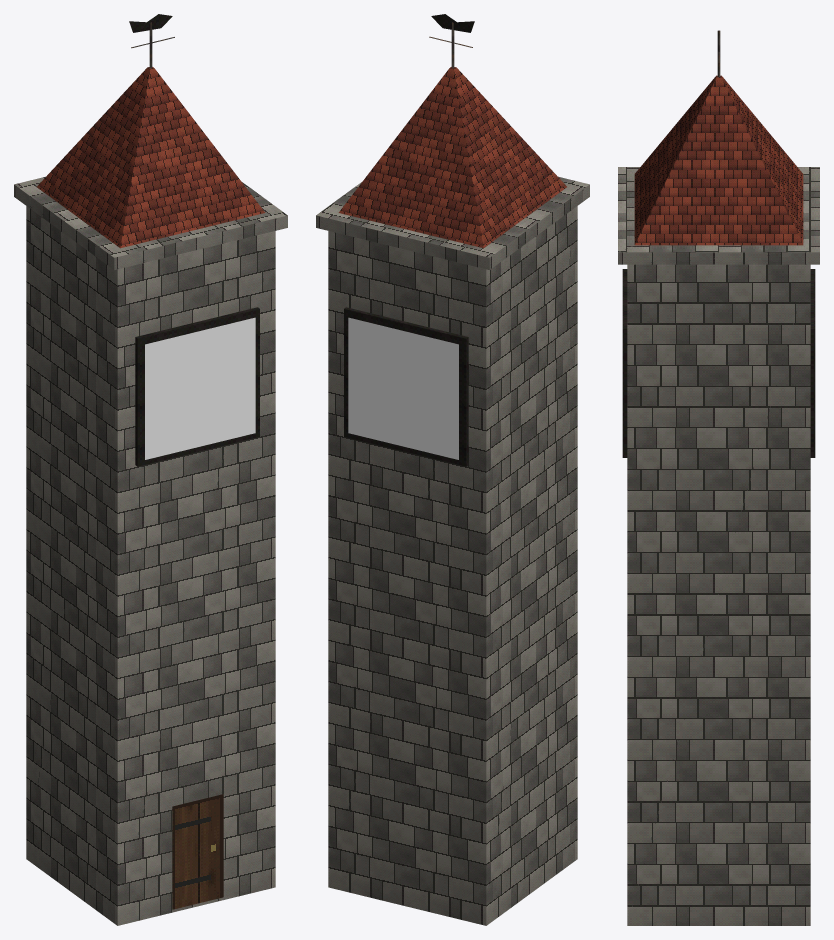
File: torre_reloj.obj
The picture shows the model from 3 angles, left to right: view 1: azimuth 30°, elevation 25°; view 2: azimuth 150°, elevation 25°; view 3: azimuth 270°, elevation 25°; orthographic projection.
Parts seen in each view (by area): view 1: torre_reloj; view 2: torre_reloj; view 3: torre_reloj.
Boxes of the visible parts, <box> form: torre_reloj: <box>14,14,287,925</box>; torre_reloj: <box>316,14,589,925</box>; torre_reloj: <box>618,30,819,925</box>.
Size of the model in its own units: 4.4 by 20.75 by 4.4.
6 materials, 5 textured.
